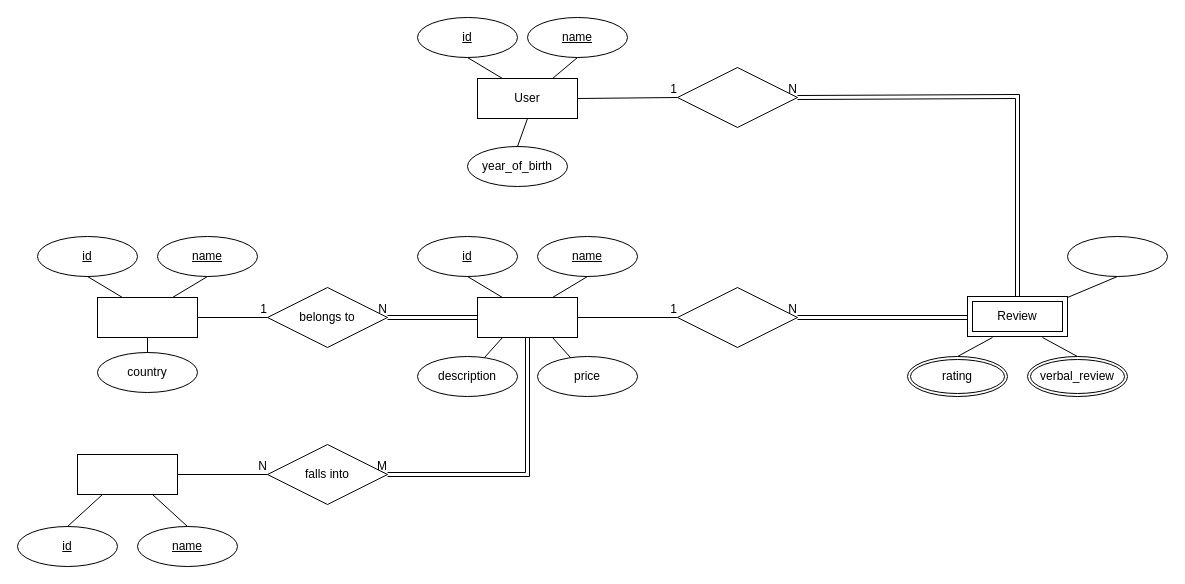
This 1185x584 diagram has some shape labels left out. The centre of each missing label's shape, as x and y in pixels:
"Brand" belongs at pixel 147 317.
"Category" belongs at pixel 127 474.
"evaluated by" belongs at pixel 737 317.
"evaluates" belongs at pixel 737 97.
"Product" belongs at pixel 527 317.
"review_date" belongs at pixel 1117 256.
